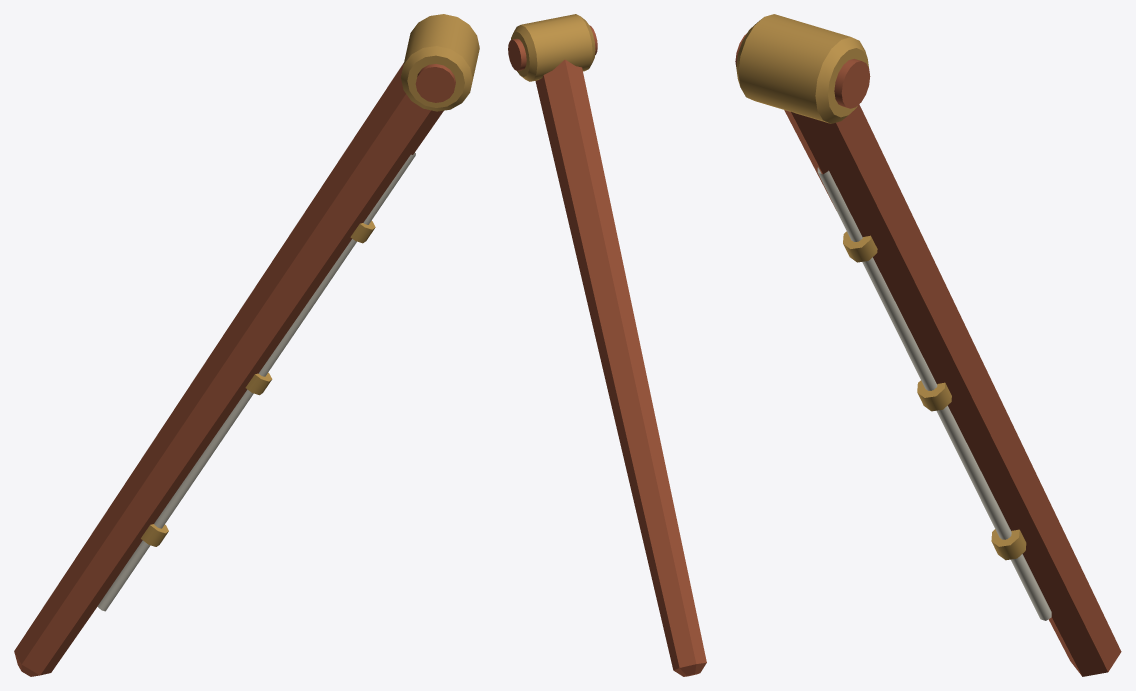
File: rm2_leg_rr_tibia.obj
3 views of the same model, side by side, from view 1: azimuth 30°, elevation 25°; view 2: azimuth 150°, elevation 25°; view 3: azimuth 270°, elevation 25° (orthographic). The views are drawn at different scales.
Parts seen in each view (by area): view 1: rm2_leg_rr_tibia; view 2: rm2_leg_rr_tibia; view 3: rm2_leg_rr_tibia.
Part boxes in pixels (x1=…): rm2_leg_rr_tibia: x1=14, y1=14, x2=479, y2=676; rm2_leg_rr_tibia: x1=508, y1=14, x2=706, y2=676; rm2_leg_rr_tibia: x1=735, y1=14, x2=1121, y2=676.
Size of the model in its own units: 0.4465 by 0.8062 by 0.3441.
